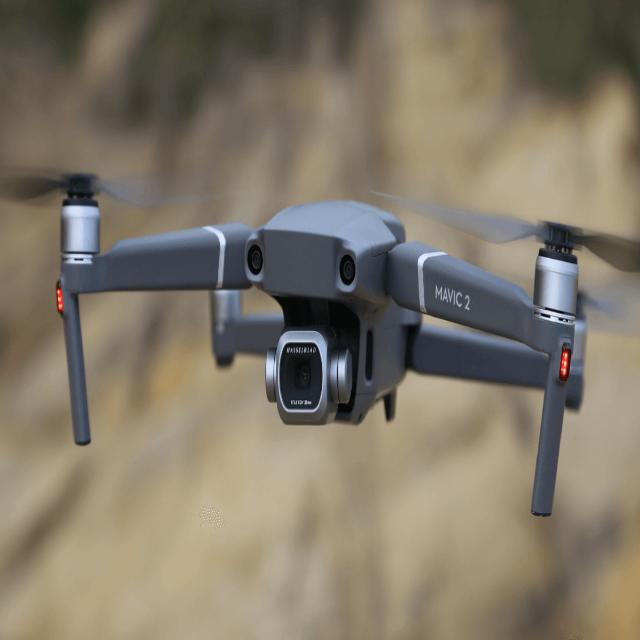drone: (0, 132, 640, 545)
